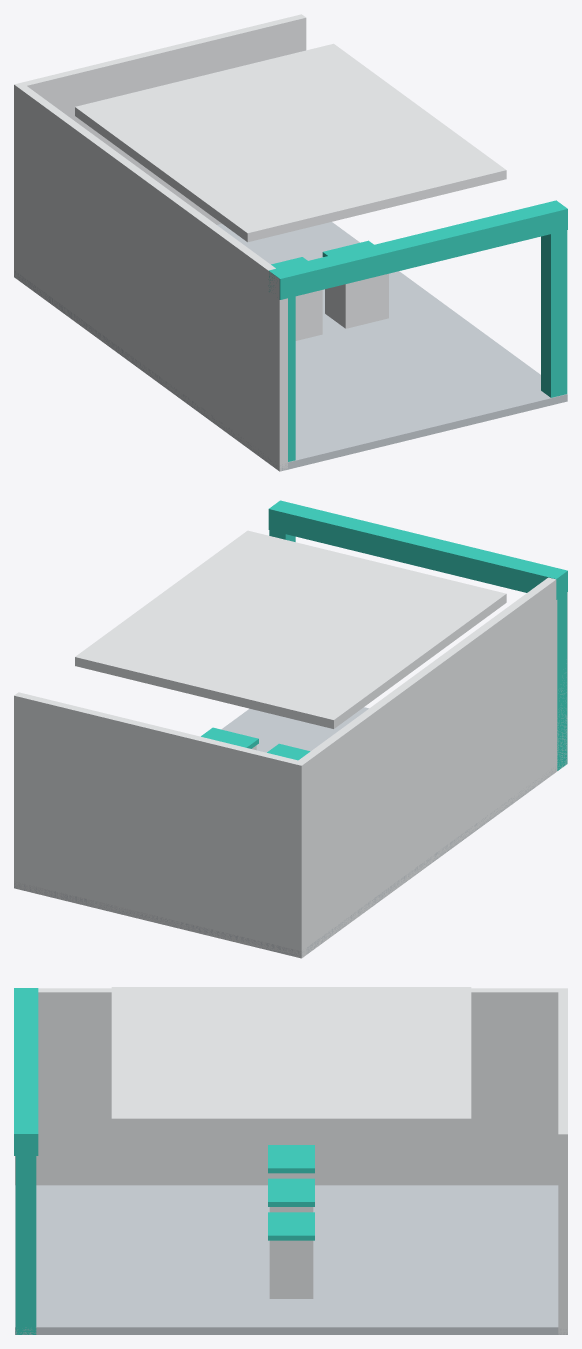
3 renders of one model, top to bottom at view 1: azimuth 30°, elevation 25°; view 2: azimuth 150°, elevation 25°; view 3: azimuth 270°, elevation 25°, orthographic. The views are drawn at different scales.
Visible parts, largest first — view 1: Exhibition Booth Concept; view 2: Exhibition Booth Concept; view 3: Exhibition Booth Concept.
Part boxes in pixels (x1,y1,x2,y2): Exhibition Booth Concept: (14,14,567,471); Exhibition Booth Concept: (14,500,567,958); Exhibition Booth Concept: (14,987,567,1334).
Size of the model in its own units: 5 by 3.34 by 8.01.
